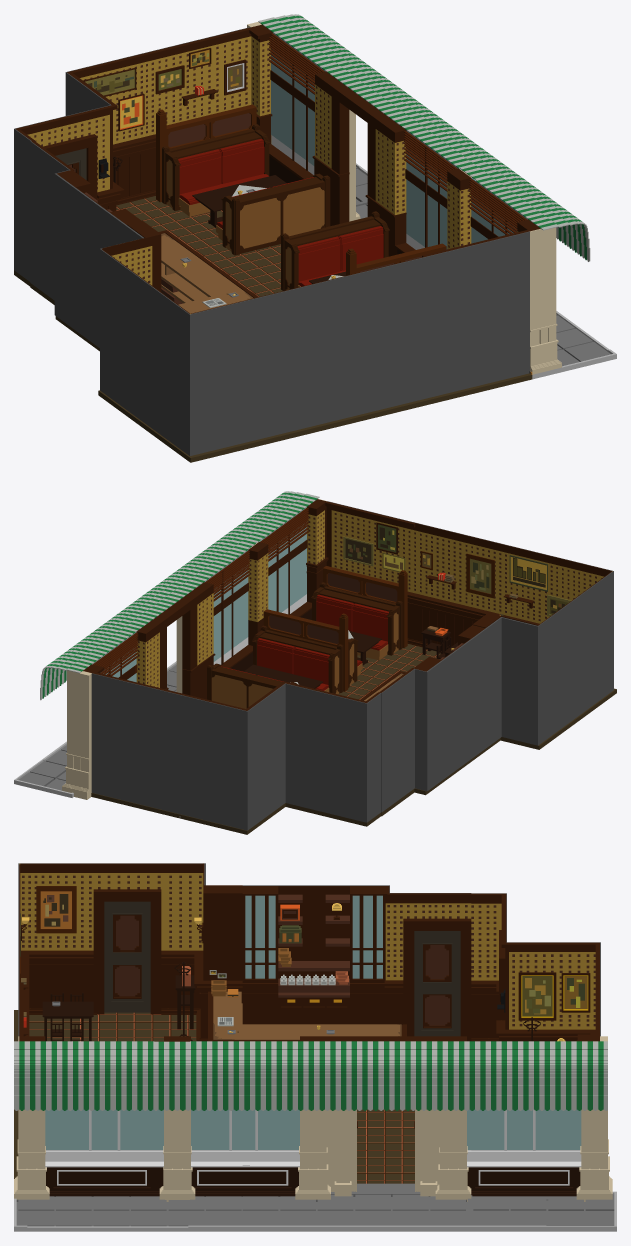
3 views of the same model, one above another, from view 1: azimuth 30°, elevation 25°; view 2: azimuth 150°, elevation 25°; view 3: azimuth 270°, elevation 25° (orthographic). The views are drawn at different scales.
Visible parts, largest first — view 1: Mesh, Bar_Update_5_10_Mesh, Bar_Update_5_9_Mesh, Bar_Update_5_7_Mesh, Bar_Update_5_4_Mesh, Bar_Update_5_6_Mesh, Bar_Update_5_8_Mesh, Bar_Update_5_5_Mesh, Bar_Update_5_3_Mesh, Bar_Update_5_1_Mesh, Bar_Update_5_2_Mesh; view 2: Mesh, Bar_Update_5_6_Mesh, Bar_Update_5_7_Mesh, Bar_Update_5_4_Mesh, Bar_Update_5_10_Mesh, Bar_Update_5_9_Mesh, Bar_Update_5_5_Mesh, Bar_Update_5_8_Mesh, Bar_Update_5_2_Mesh, Bar_Update_5_1_Mesh; view 3: Bar_Update_5_9_Mesh, Mesh, Bar_Update_5_8_Mesh, Bar_Update_5_4_Mesh, Bar_Update_5_7_Mesh, Bar_Update_5_6_Mesh, Bar_Update_5_10_Mesh, Bar_Update_5_2_Mesh, Bar_Update_5_3_Mesh, Bar_Update_5_0_Mesh, Bar_Update_5_1_Mesh.
Part boxes in pixels (x1,y1,x2,y2): Mesh: (346, 142, 616, 404); Bar_Update_5_10_Mesh: (127, 220, 426, 451); Bar_Update_5_9_Mesh: (207, 62, 474, 291); Bar_Update_5_7_Mesh: (145, 14, 367, 239); Bar_Update_5_4_Mesh: (98, 225, 236, 462); Bar_Update_5_6_Mesh: (14, 53, 206, 286); Bar_Update_5_8_Mesh: (30, 140, 278, 351); Bar_Update_5_5_Mesh: (54, 173, 126, 347); Bar_Update_5_3_Mesh: (271, 33, 323, 165); Bar_Update_5_1_Mesh: (324, 70, 433, 246); Bar_Update_5_2_Mesh: (433, 150, 527, 249); Mesh: (167, 491, 415, 695); Bar_Update_5_6_Mesh: (180, 681, 381, 834); Bar_Update_5_7_Mesh: (14, 626, 182, 818); Bar_Update_5_4_Mesh: (486, 562, 616, 749); Bar_Update_5_10_Mesh: (343, 523, 575, 750); Bar_Update_5_9_Mesh: (100, 559, 318, 708); Bar_Update_5_5_Mesh: (426, 628, 486, 791); Bar_Update_5_8_Mesh: (360, 625, 485, 816); Bar_Update_5_2_Mesh: (227, 507, 306, 651); Bar_Update_5_1_Mesh: (134, 565, 227, 682); Bar_Update_5_9_Mesh: (242, 1036, 471, 1231); Mesh: (14, 982, 242, 1231); Bar_Update_5_8_Mesh: (242, 886, 471, 1129); Bar_Update_5_4_Mesh: (14, 863, 205, 1033); Bar_Update_5_7_Mesh: (471, 982, 616, 1231); Bar_Update_5_6_Mesh: (471, 893, 600, 1041); Bar_Update_5_10_Mesh: (14, 885, 242, 1129); Bar_Update_5_2_Mesh: (45, 1109, 242, 1149); Bar_Update_5_3_Mesh: (471, 1109, 581, 1149); Bar_Update_5_0_Mesh: (245, 895, 382, 978); Bar_Update_5_1_Mesh: (242, 1109, 471, 1149).
Bounding box in the file's own units: 57.4 × 18.9 × 67.5.
12 materials, 12 textured.
